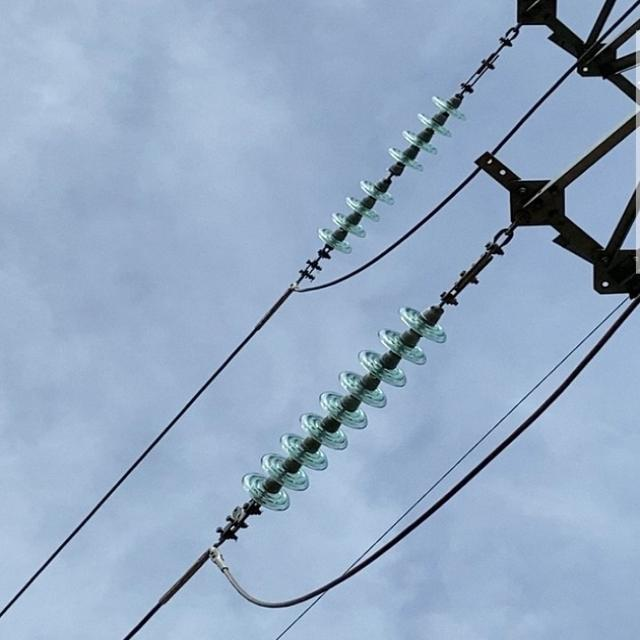正常绝缘子: (188, 282, 476, 568), (273, 79, 497, 299)
绝缘子破损: (375, 167, 405, 185)
